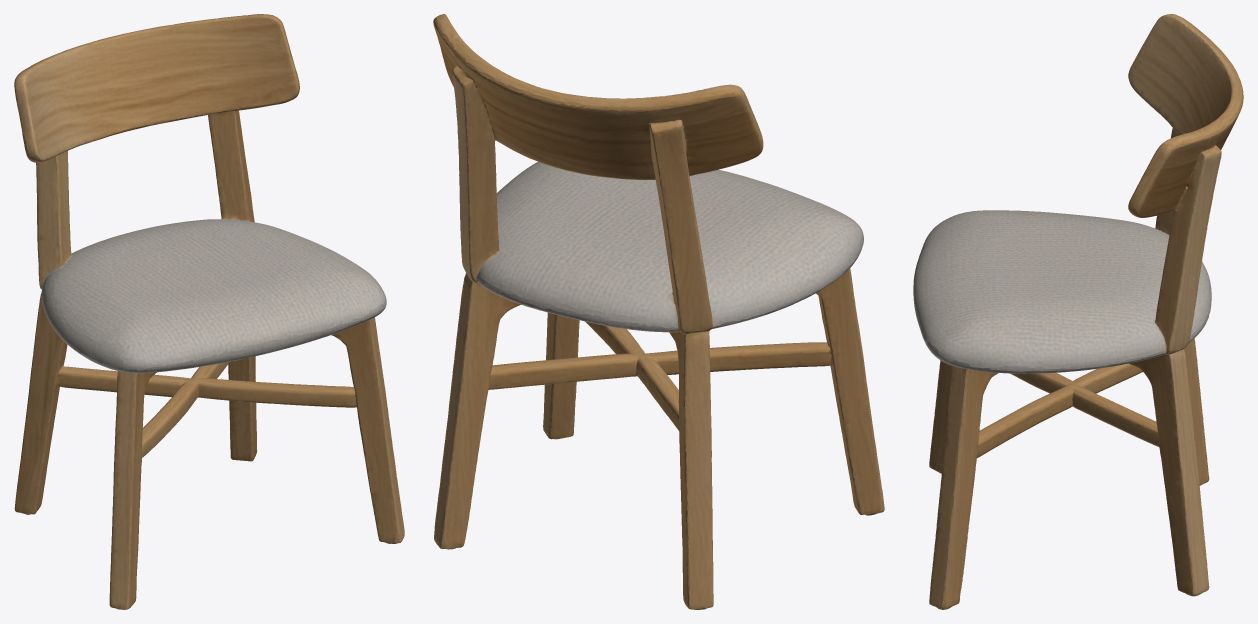
The model's file is item_93fe76c9.glb.
3 views of the same model, side by side, from view 1: azimuth 30°, elevation 25°; view 2: azimuth 150°, elevation 25°; view 3: azimuth 270°, elevation 25° (orthographic). The views are drawn at different scales.
Visible parts, largest first — view 1: world; view 2: world; view 3: world.
Part boxes in pixels (box(x1,y1,x2,y2)): world: box(14, 14, 404, 609); world: box(433, 14, 884, 609); world: box(913, 14, 1243, 609).
Size of the model in its own units: 0.5634 by 0.82 by 0.5309.
Materials: 1 (1 with a texture image).
